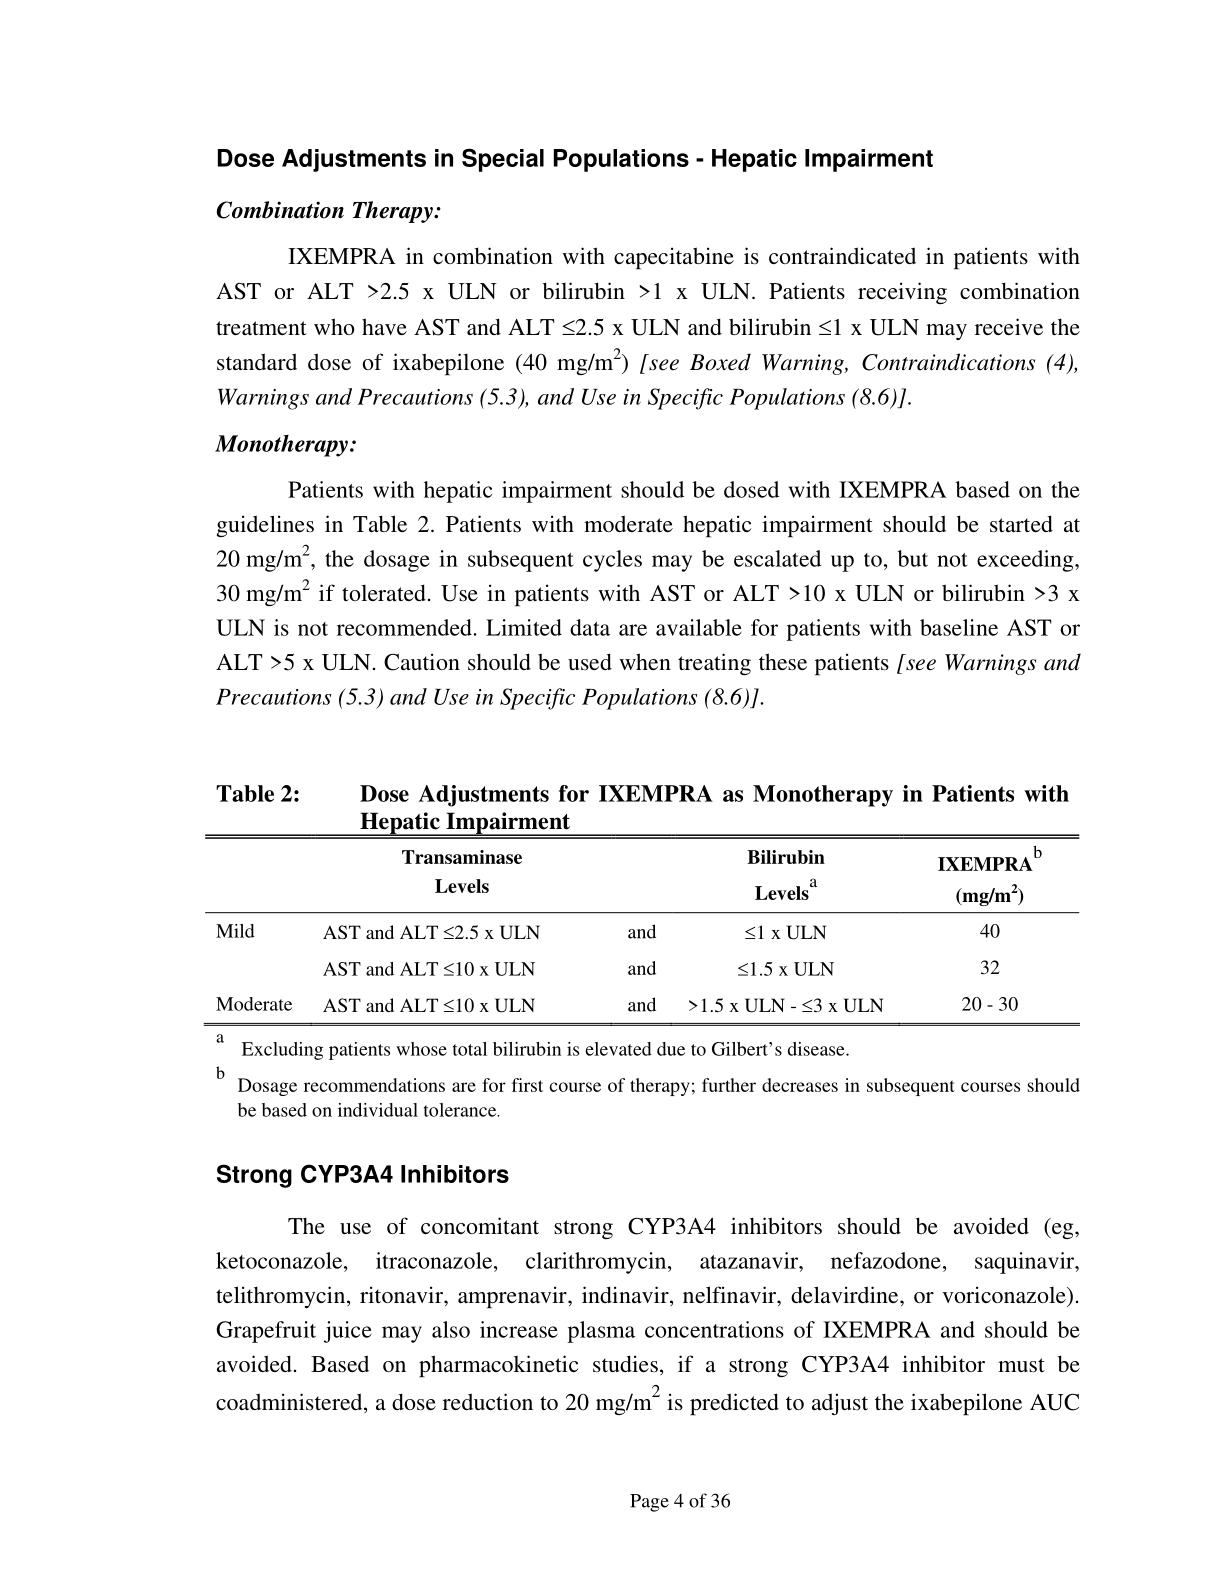partial_lined: (202, 832, 1084, 1029)
